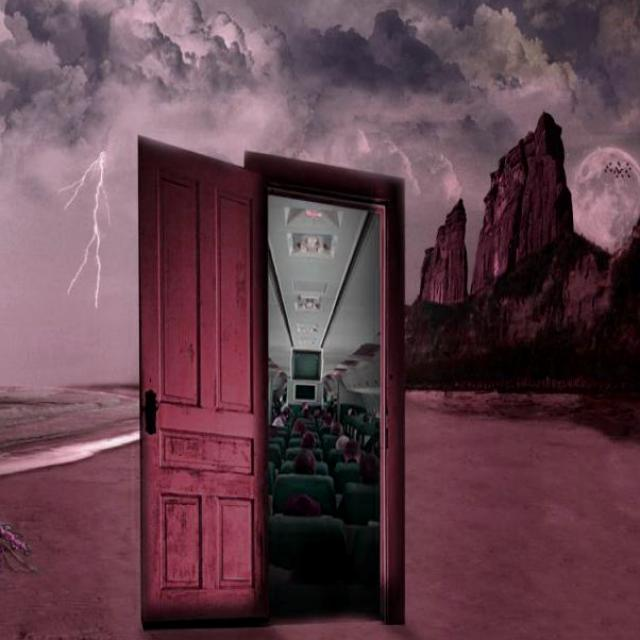Door: (137, 134, 268, 626)
